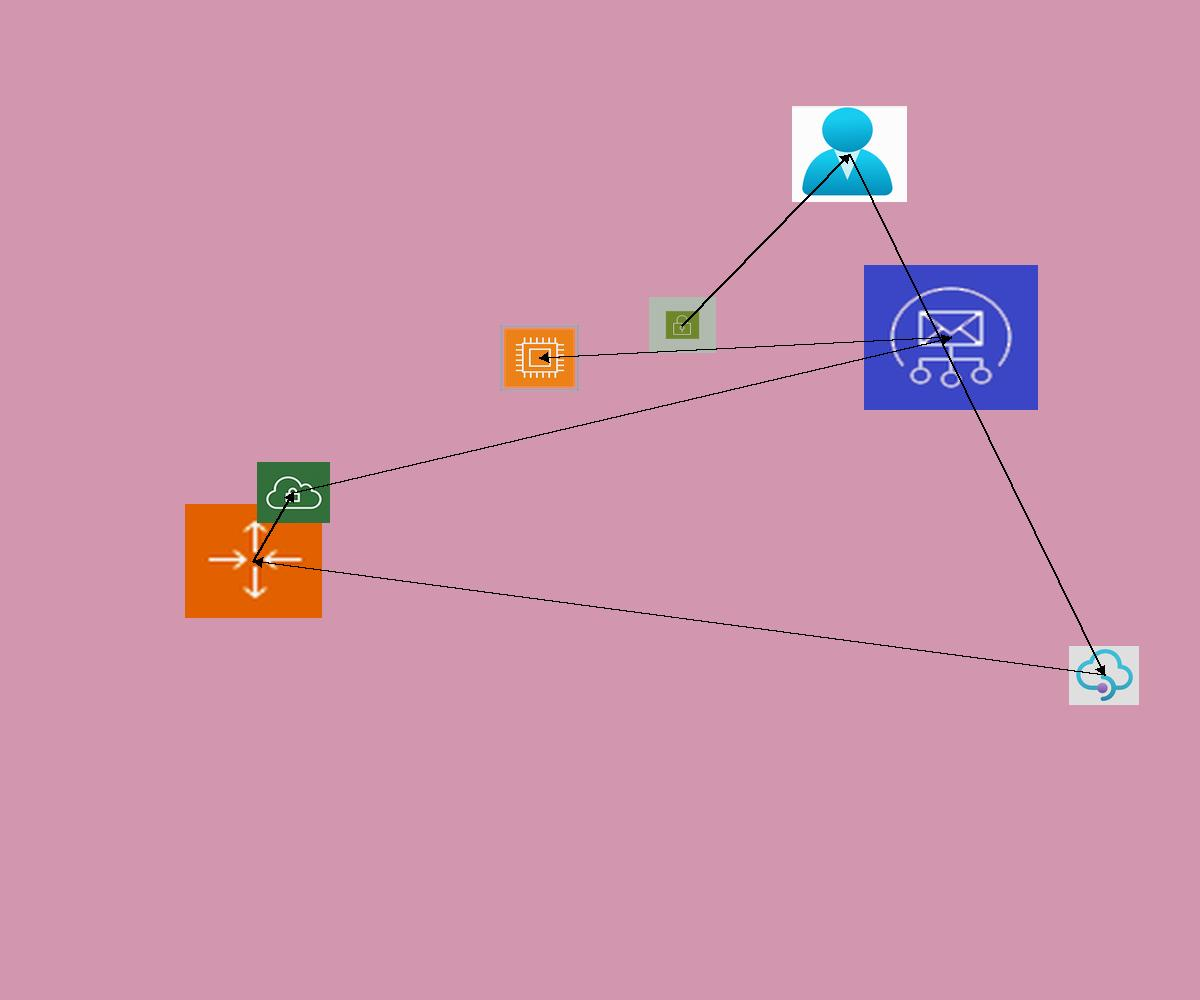AWS-Category_Compute: (500, 325, 579, 391)
AWS-Private_vpc: (257, 462, 330, 523)
AWS-Public-subnet: (649, 297, 716, 353)
AWS-Scaling-group: (185, 504, 322, 618)
AWS-Simple-Email-Service: (864, 265, 1038, 410)
Azure_api_gateway: (1069, 646, 1139, 705)
Azure_users: (792, 106, 907, 202)
